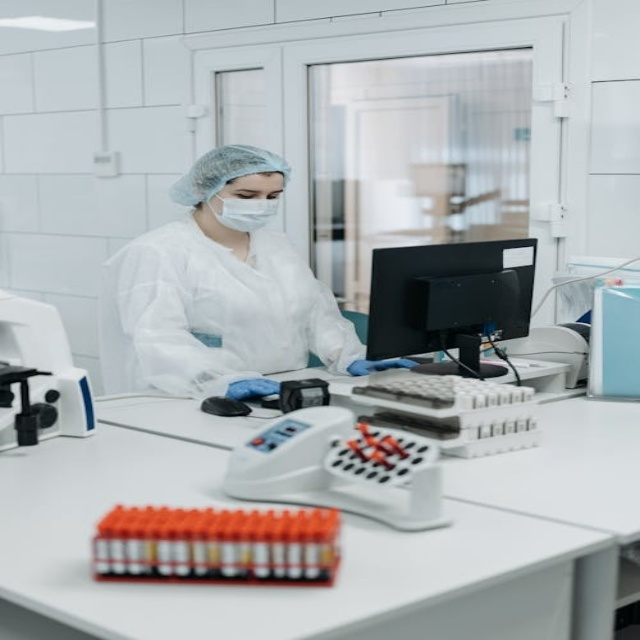Guantes: (225, 378, 282, 402), (347, 358, 415, 376)
Mascara: (208, 192, 281, 233)
Sin_gafas: (225, 185, 282, 197)
